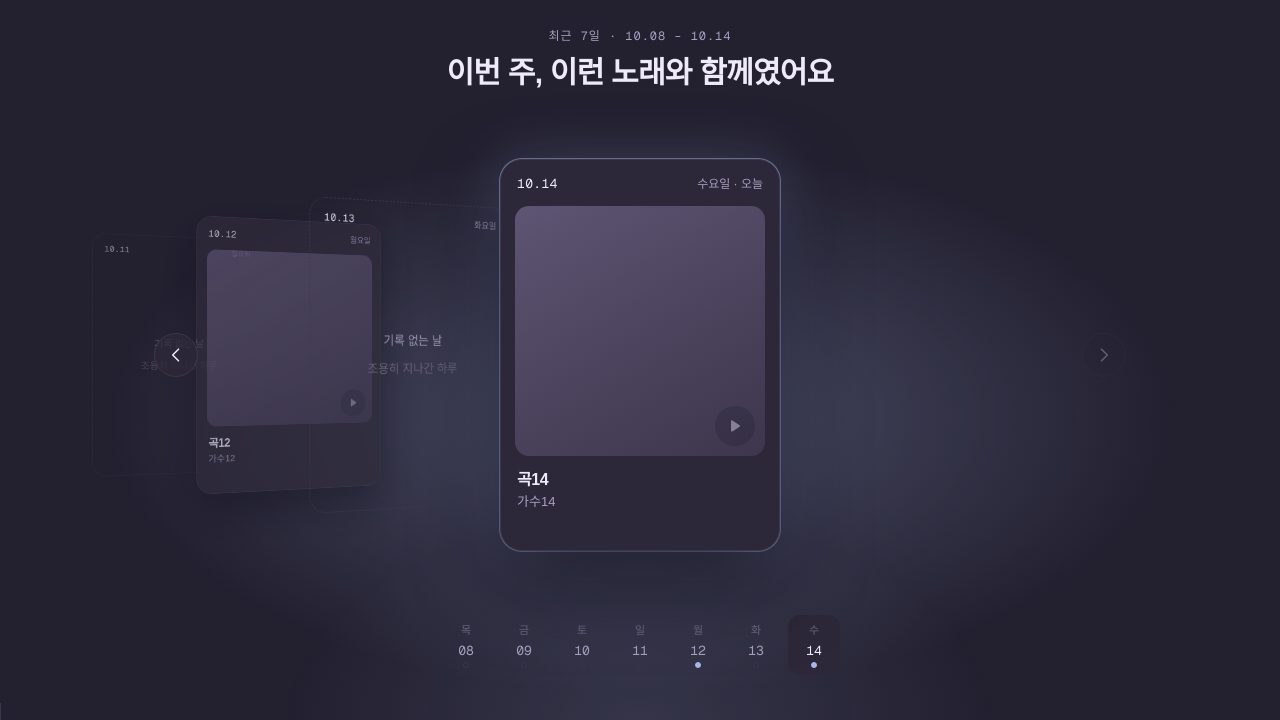
it: HomeView › follows the carousel selection in the panel
Click the tab named "10.12 월요일".
click(698, 645)  # box 672,615 -> 724,675
(page scrolled)
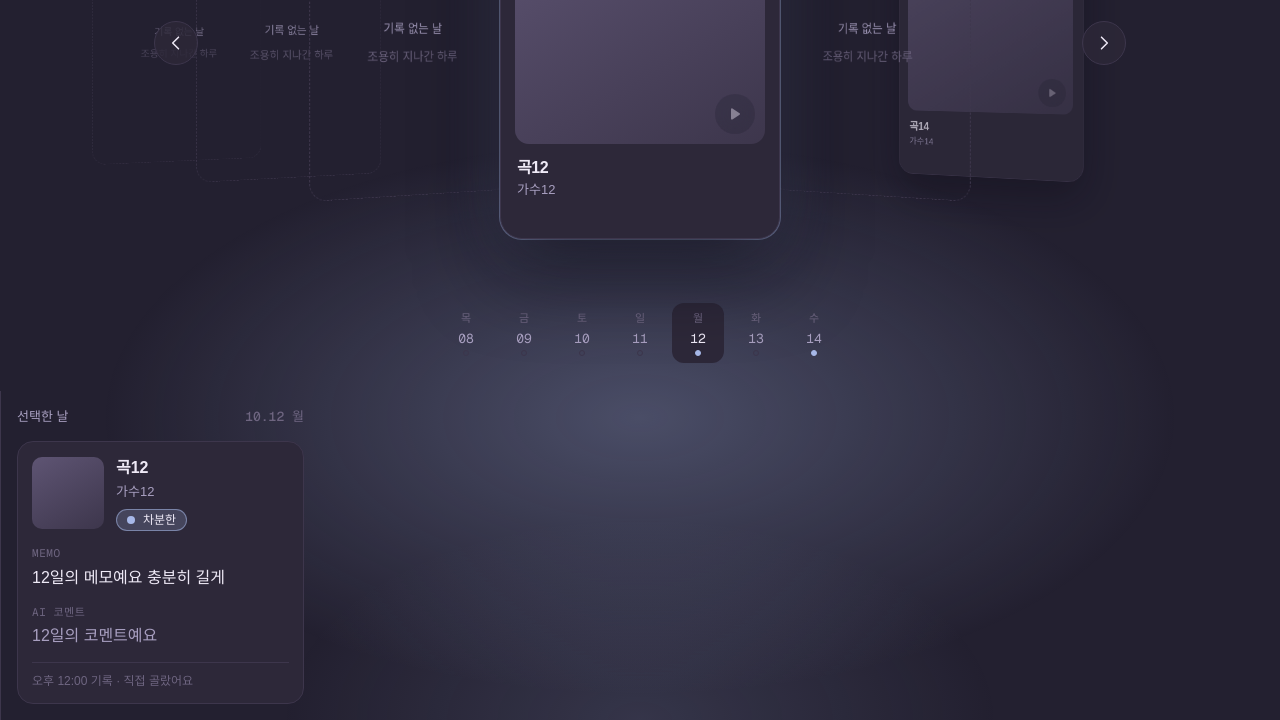
Expected: the text "곡12" below "선택한 날" is shown, 116,458 -> 148,476
Expected: the text "10.12 월" is shown, 245,407 -> 304,426
